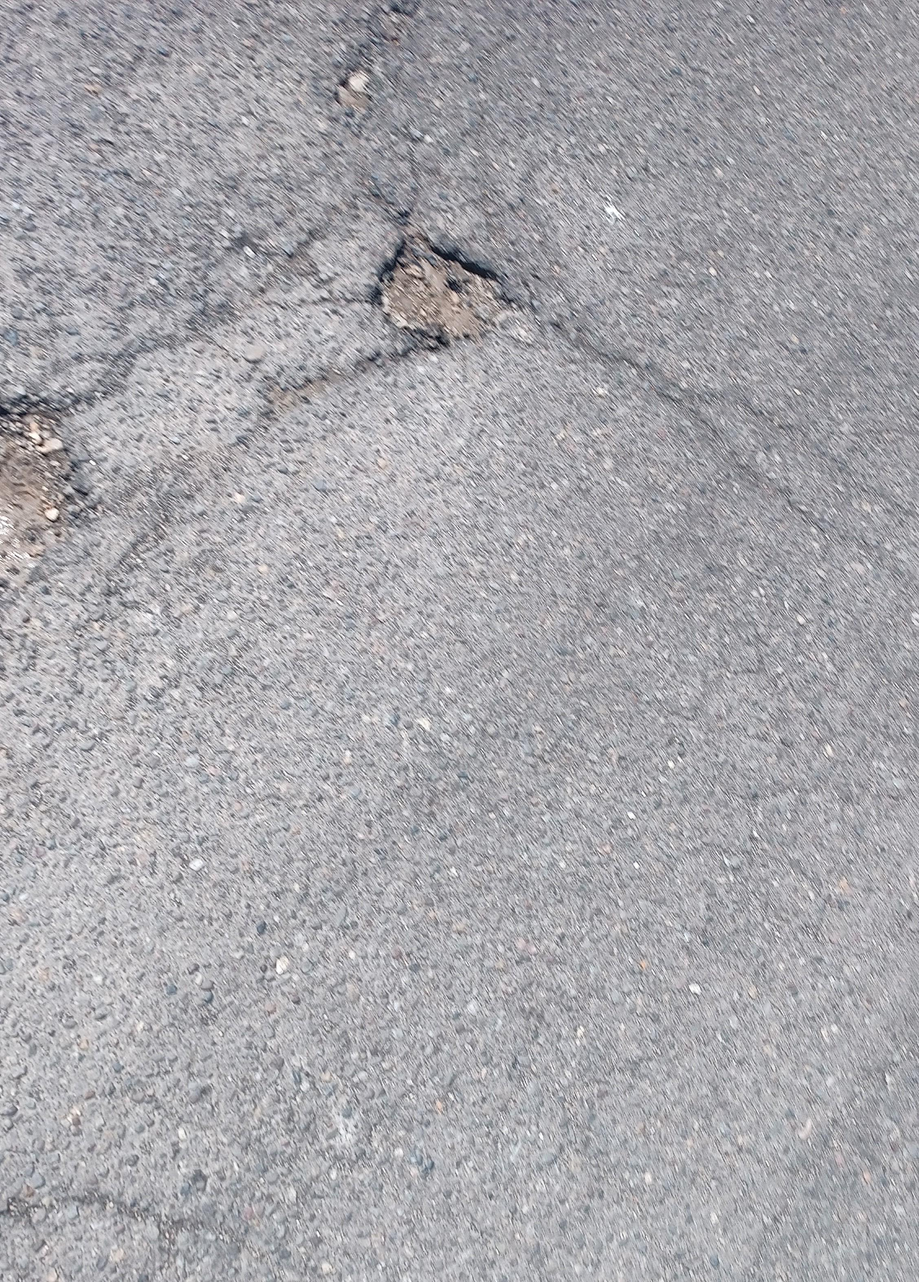BACHE: (375, 236, 517, 345), (2, 402, 91, 559), (336, 65, 376, 110)
GRIETA: (109, 343, 430, 579), (536, 318, 811, 527), (63, 297, 373, 417), (692, 395, 919, 520)
PIEL DE COCODRILO: (690, 516, 908, 989), (0, 1055, 407, 1282), (254, 140, 571, 289)
